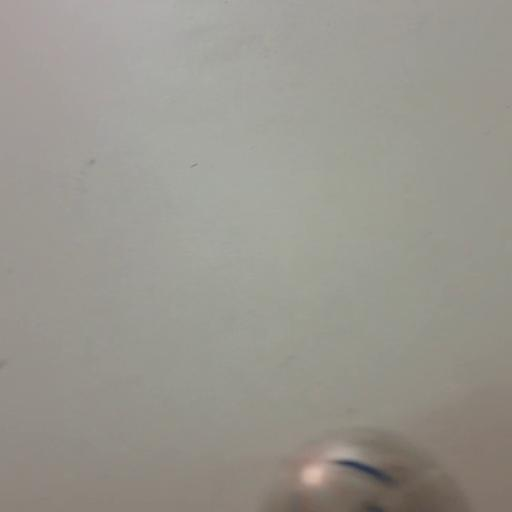alive: (250, 425, 486, 511)
